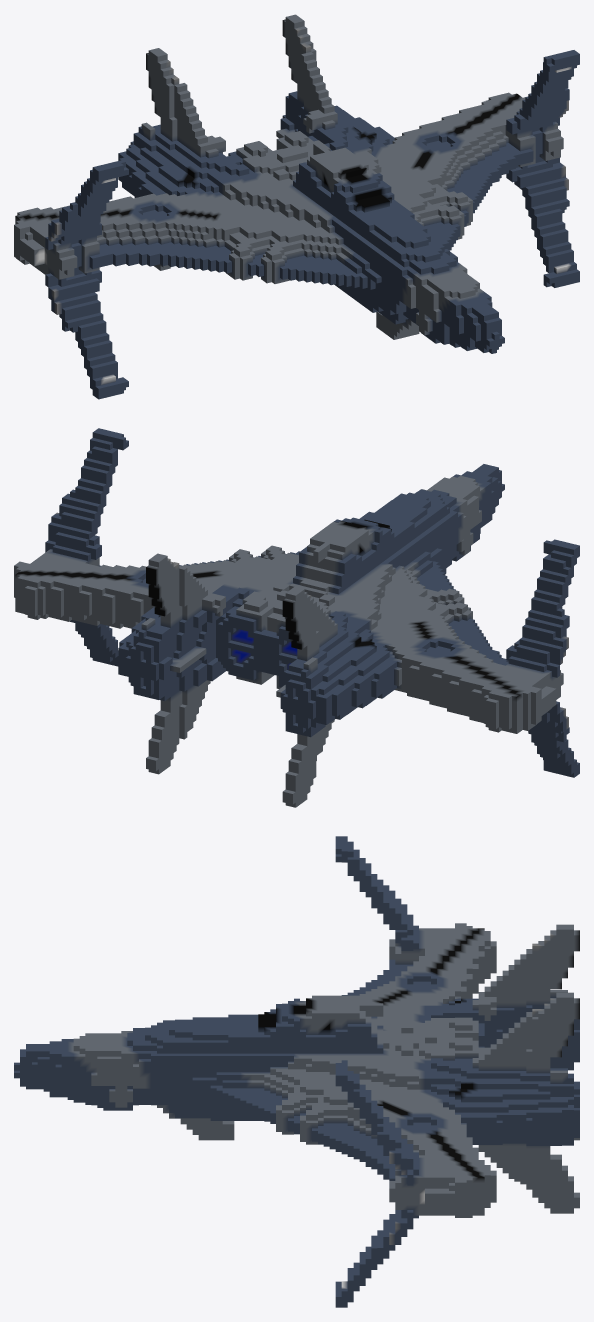
Rendered from spaceship5.obj.
3 renders of one model, top to bottom at view 1: azimuth 30°, elevation 25°; view 2: azimuth 150°, elevation 25°; view 3: azimuth 270°, elevation 25°, orthographic.
Size of the model in its own units: 10.3 by 4.3 by 9.5.
